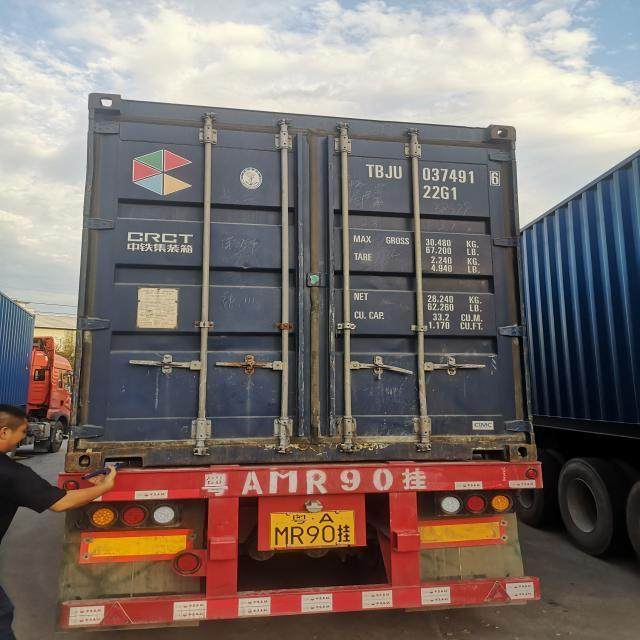ISO: (426, 186, 458, 202)
container_number: (365, 162, 497, 185)
